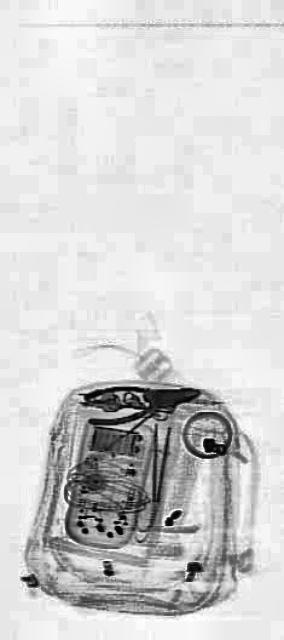Pliers: (82, 372, 200, 428)
